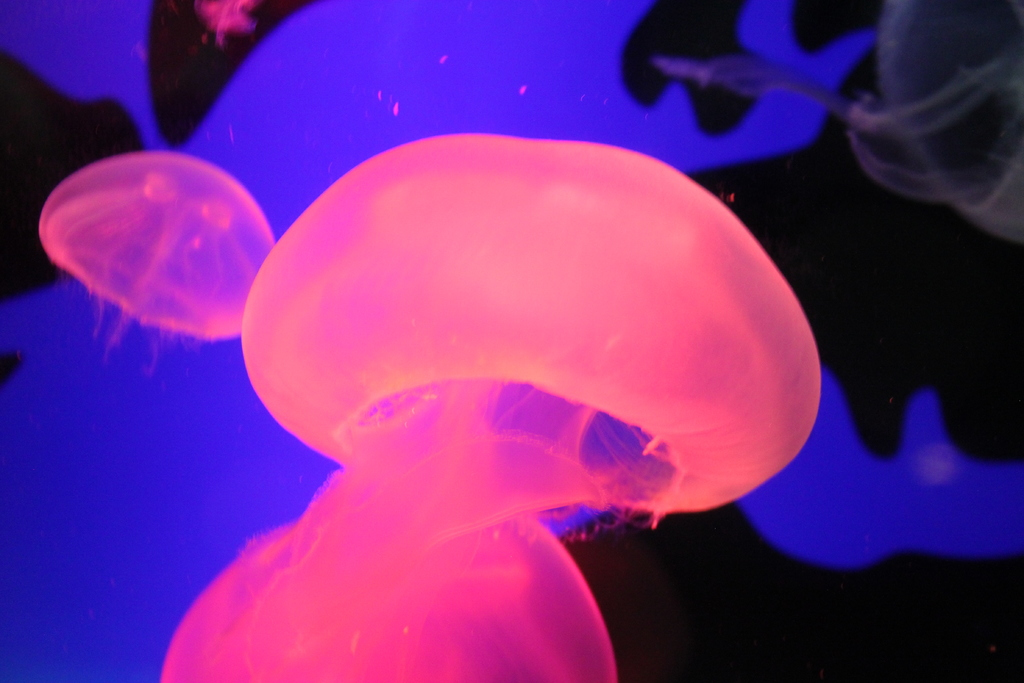Jellyfish: (33, 127, 823, 682), (638, 0, 1023, 238), (192, 0, 260, 42)
